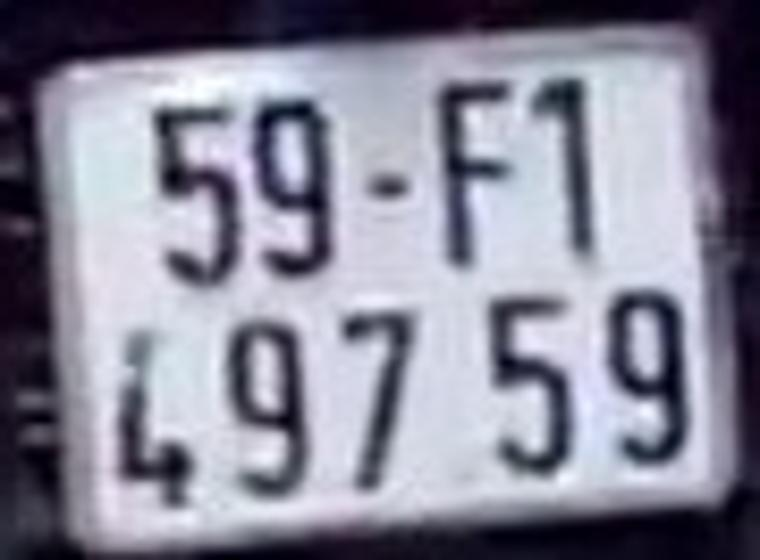-: (363, 174, 410, 198)
1: (528, 75, 590, 255)
4: (104, 328, 189, 508)
5: (150, 107, 241, 290), (487, 297, 572, 477)
7: (338, 311, 417, 489)
9: (218, 327, 305, 494), (253, 103, 334, 279), (607, 294, 685, 463)
F: (437, 78, 513, 267)
